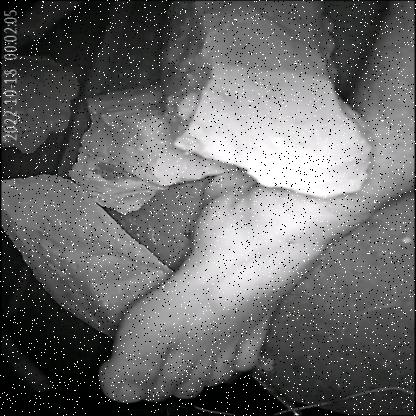leg: (98, 4, 416, 416)
